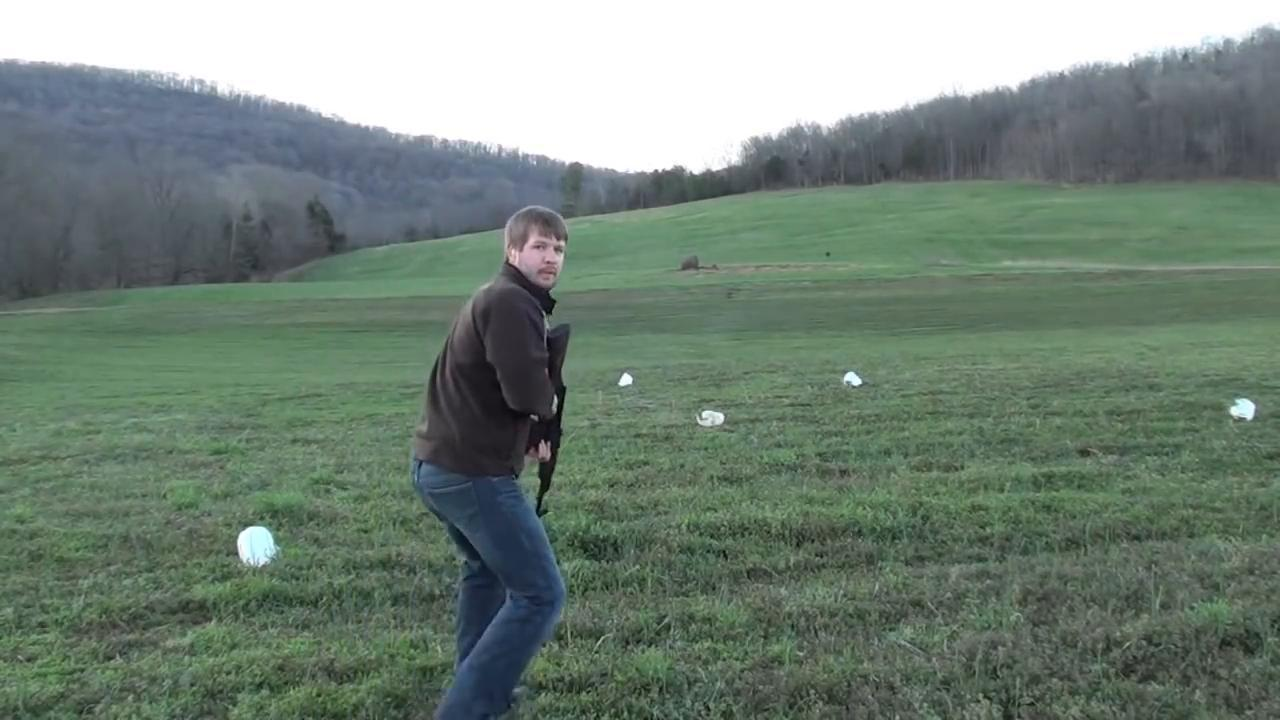AK47 Rifle: (527, 318, 572, 521)
